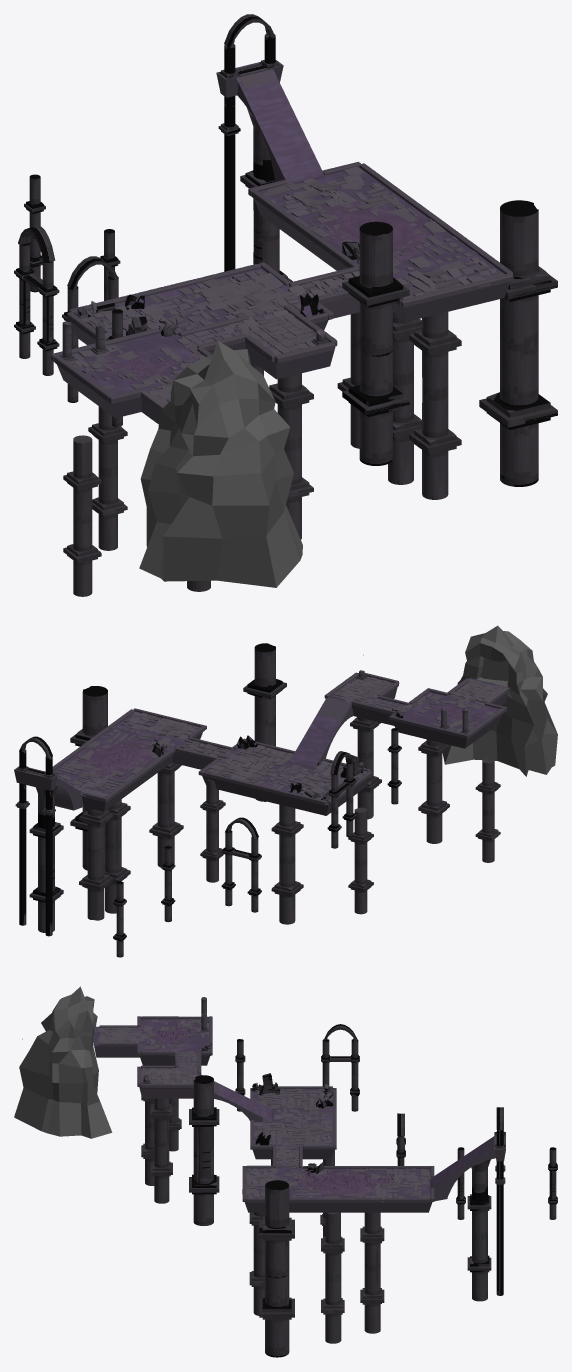
Rendered from Level3-1-Chipped.glb.
3 views of the same model, one above another, from view 1: azimuth 30°, elevation 25°; view 2: azimuth 150°, elevation 25°; view 3: azimuth 270°, elevation 25° (orthographic). The views are drawn at different scales.
Visible parts, largest first — view 1: Cave-Exit, Layout-col, BackPillar.007, BackPillar.006, BottomPillar.007, BottomPillar.003, BottomPillar.009, Tiles.011, BottomPillar.005, Tiles.013, BottomPillar.002, Bottom.007 (+22 smaller); view 2: Cave-Exit, Layout-col, BackPillar.006, BottomPillar.010, BottomPillar.004, BottomPillar.001, BottomPillar.008, BackPillar.007, Tiles.011, BottomPillar.007, BottomPillar.009, Ground.001 (+32 smaller); view 3: Cave-Exit, Layout-col, BackPillar.007, BackPillar.006, BottomPillar.008, BottomPillar.009, BottomPillar.010, BottomPillar.002, Bottom.007, Tiles.011, Ground.001, BackPillar.010 (+19 smaller).
Part boxes in pixels (x1=…): Cave-Exit: x1=139, y1=340, x2=302, y2=587; Layout-col: x1=75, y1=69, x2=504, y2=395; BackPillar.007: x1=479, y1=200, x2=557, y2=486; BackPillar.006: x1=342, y1=221, x2=409, y2=465; BottomPillar.007: x1=409, y1=312, x2=461, y2=499; BottomPillar.003: x1=63, y1=435, x2=101, y2=596; BottomPillar.009: x1=388, y1=312, x2=421, y2=484; Tiles.011: x1=191, y1=270, x2=301, y2=319; BottomPillar.005: x1=88, y1=406, x2=127, y2=550; Tiles.013: x1=263, y1=166, x2=398, y2=218; BottomPillar.002: x1=269, y1=373, x2=313, y2=539; Bottom.007: x1=254, y1=199, x2=510, y2=321; Cave-Exit: x1=442, y1=625, x2=557, y2=776; Layout-col: x1=52, y1=678, x2=510, y2=803; BackPillar.006: x1=243, y1=643, x2=286, y2=801; BottomPillar.010: x1=79, y1=808, x2=113, y2=920; BottomPillar.004: x1=271, y1=804, x2=303, y2=924; BottomPillar.001: x1=418, y1=739, x2=449, y2=843; BottomPillar.008: x1=29, y1=785, x2=63, y2=932; BackPillar.007: x1=70, y1=686, x2=107, y2=870; Tiles.011: x1=208, y1=744, x2=293, y2=782; BottomPillar.007: x1=149, y1=762, x2=183, y2=867; BottomPillar.009: x1=104, y1=799, x2=130, y2=913; Ground.001: x1=81, y1=740, x2=153, y2=778; Cave-Exit: x1=14, y1=986, x2=112, y2=1138; Layout-col: x1=94, y1=1019, x2=494, y2=1198; BackPillar.007: x1=259, y1=1180, x2=294, y2=1357; BackPillar.006: x1=189, y1=1075, x2=219, y2=1225; BottomPillar.008: x1=467, y1=1159, x2=491, y2=1301; BottomPillar.009: x1=321, y1=1212, x2=344, y2=1343; BottomPillar.010: x1=360, y1=1212, x2=384, y2=1333; BottomPillar.002: x1=150, y1=1098, x2=172, y2=1203; Bottom.007: x1=244, y1=1201, x2=432, y2=1212; Tiles.011: x1=254, y1=1121, x2=332, y2=1146; Ground.001: x1=299, y1=1171, x2=393, y2=1196; BackPillar.010: x1=495, y1=1130, x2=505, y2=1295.
Bounding box in the file's own units: 213 × 139 × 289.
8 materials, 5 textured.
